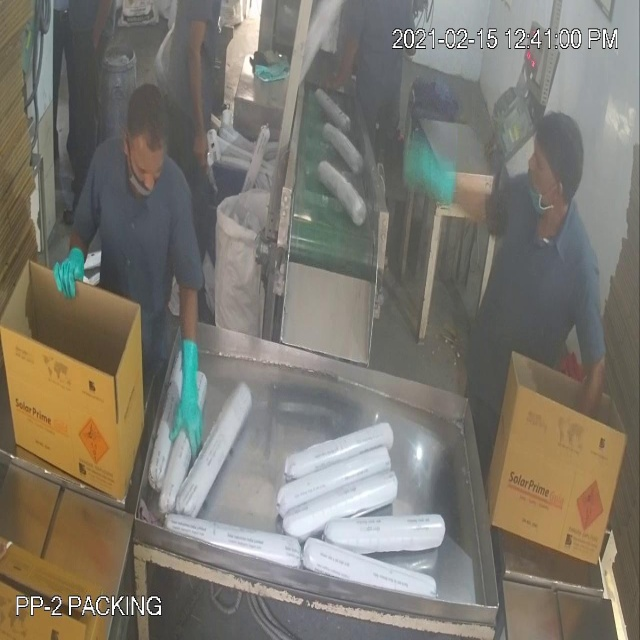Guantes: (391, 118, 455, 215), (174, 320, 210, 474), (50, 237, 102, 318)
Sin_guantes: (184, 10, 214, 185), (318, 38, 360, 96), (91, 1, 116, 65)
